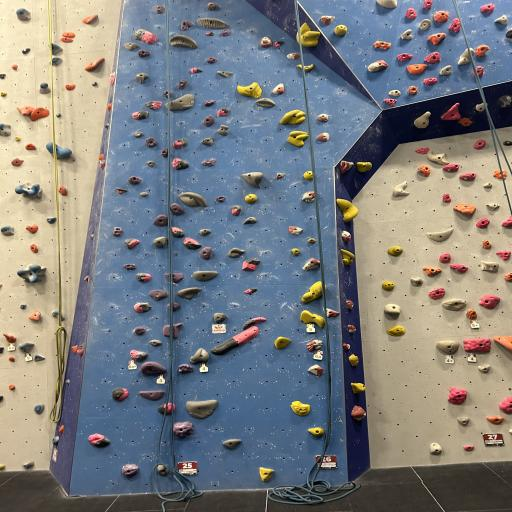holds: (211, 326, 259, 355), (186, 400, 217, 419), (336, 198, 358, 221), (301, 282, 323, 304), (237, 80, 262, 99), (170, 93, 195, 112), (179, 192, 208, 208), (435, 339, 461, 355), (282, 109, 307, 125), (301, 310, 326, 326), (464, 339, 493, 352), (170, 35, 198, 48), (426, 227, 454, 240), (442, 102, 461, 121), (301, 29, 320, 48), (19, 266, 41, 281), (16, 182, 41, 195), (291, 400, 310, 416), (413, 112, 432, 128), (288, 131, 307, 147), (173, 422, 192, 438), (448, 387, 467, 403), (90, 432, 109, 448), (480, 294, 499, 310), (32, 106, 51, 122), (138, 29, 157, 45), (141, 362, 166, 374), (442, 298, 467, 310), (198, 19, 227, 29), (454, 202, 477, 214), (427, 154, 448, 166), (192, 272, 217, 282), (138, 390, 163, 400), (368, 61, 387, 74), (189, 349, 208, 362), (243, 173, 262, 186), (182, 237, 201, 250), (480, 259, 499, 272), (256, 96, 275, 109), (493, 336, 512, 349), (406, 64, 429, 74), (86, 58, 105, 70), (179, 288, 201, 298), (275, 336, 291, 349), (112, 387, 128, 400), (429, 32, 445, 45), (125, 237, 141, 250), (429, 288, 445, 301), (150, 288, 166, 301), (134, 301, 150, 314), (259, 467, 275, 480), (243, 259, 259, 272), (304, 259, 320, 272), (342, 250, 355, 266), (499, 397, 512, 413), (307, 339, 323, 352), (243, 317, 265, 326), (122, 464, 137, 477), (394, 182, 409, 195), (173, 157, 188, 170), (426, 51, 441, 64), (55, 144, 70, 157), (432, 10, 448, 22), (458, 48, 470, 64), (387, 326, 406, 336), (378, 0, 397, 10), (227, 246, 246, 256), (442, 163, 461, 173), (16, 106, 35, 115), (198, 246, 211, 259), (419, 163, 432, 176), (259, 35, 272, 48), (352, 406, 365, 419), (339, 160, 352, 173), (423, 266, 441, 275), (387, 246, 403, 256), (224, 438, 240, 448), (480, 3, 496, 13), (147, 99, 163, 109), (451, 262, 467, 272), (384, 304, 400, 314), (0, 227, 16, 237), (243, 259, 259, 269), (19, 342, 35, 352), (400, 29, 413, 41), (154, 214, 166, 227), (157, 464, 169, 477), (134, 29, 147, 41), (374, 42, 390, 51), (474, 138, 486, 150), (170, 202, 182, 214), (307, 365, 323, 374), (131, 349, 147, 358), (83, 13, 99, 22), (429, 442, 441, 454), (422, 77, 438, 86), (307, 426, 323, 435), (179, 365, 195, 374), (173, 138, 189, 147), (173, 323, 182, 339), (496, 250, 512, 259), (16, 10, 32, 19), (202, 157, 217, 166), (358, 163, 371, 173), (272, 83, 285, 93), (406, 6, 416, 19), (128, 176, 141, 186), (246, 192, 259, 202), (352, 384, 365, 394), (134, 326, 147, 336), (467, 307, 477, 320), (198, 227, 211, 237), (451, 19, 461, 32), (342, 230, 352, 243), (326, 307, 339, 317), (288, 51, 301, 61), (502, 214, 512, 227), (499, 96, 512, 106), (160, 403, 173, 413), (138, 272, 150, 282), (29, 310, 41, 320), (317, 131, 329, 141), (439, 64, 451, 74), (26, 224, 38, 234), (173, 227, 185, 237), (458, 416, 470, 426), (301, 192, 313, 202), (61, 32, 73, 42), (51, 42, 61, 54), (438, 253, 451, 262), (214, 314, 227, 323), (134, 74, 147, 83), (349, 355, 358, 368), (320, 16, 333, 25), (22, 461, 35, 470), (3, 333, 16, 342), (77, 342, 86, 355), (486, 416, 505, 422), (397, 54, 413, 61), (288, 227, 304, 234), (477, 218, 489, 227), (381, 282, 393, 291), (477, 45, 489, 54), (154, 237, 166, 246), (138, 49, 150, 58), (125, 42, 137, 51), (0, 125, 9, 137), (419, 19, 429, 29), (422, 0, 432, 10), (35, 403, 45, 413), (182, 19, 192, 29), (218, 70, 232, 77), (461, 173, 477, 179), (131, 112, 147, 118), (416, 147, 429, 154), (384, 99, 397, 106), (112, 227, 121, 237), (205, 115, 214, 125), (410, 86, 419, 96), (230, 205, 240, 214), (442, 192, 451, 202), (147, 138, 157, 147), (477, 102, 486, 112), (173, 272, 182, 282), (496, 16, 505, 26), (317, 115, 329, 122), (410, 278, 422, 285), (458, 118, 470, 125), (125, 262, 137, 269), (336, 26, 345, 35), (13, 157, 22, 166), (218, 125, 227, 134), (304, 170, 313, 179), (493, 170, 502, 179), (304, 64, 313, 73), (243, 218, 256, 224), (486, 202, 499, 208), (115, 189, 128, 195), (243, 288, 256, 294), (48, 141, 54, 154), (163, 323, 169, 336), (202, 138, 214, 144), (477, 365, 489, 371), (218, 109, 230, 115), (150, 339, 160, 346), (67, 83, 77, 90), (166, 403, 173, 413), (54, 435, 61, 445), (134, 131, 144, 138), (165, 90, 173, 98), (208, 3, 217, 10), (205, 99, 214, 106), (218, 195, 227, 202), (192, 67, 201, 74), (32, 243, 38, 253), (483, 240, 489, 250), (291, 250, 301, 256), (275, 173, 285, 179), (179, 80, 185, 90), (307, 237, 317, 243), (506, 272, 512, 282), (51, 58, 61, 64), (390, 90, 400, 96), (349, 323, 355, 333), (477, 67, 483, 77), (42, 83, 48, 93), (22, 48, 32, 54), (35, 355, 45, 361), (26, 144, 35, 150), (61, 186, 67, 195), (48, 218, 57, 224), (208, 58, 217, 64), (173, 301, 179, 310), (506, 29, 512, 38), (221, 29, 230, 35), (275, 42, 284, 48), (109, 74, 115, 83), (464, 445, 473, 451), (342, 342, 349, 349), (485, 182, 492, 189), (298, 28, 301, 44), (157, 6, 163, 13), (74, 346, 80, 353), (346, 301, 352, 307), (147, 160, 153, 166), (10, 384, 16, 390), (83, 275, 89, 281), (13, 64, 19, 70), (64, 378, 70, 384), (20, 304, 26, 310), (163, 147, 166, 157), (502, 141, 512, 144), (141, 192, 150, 195), (205, 32, 214, 35), (0, 74, 5, 79), (89, 234, 94, 239), (61, 426, 64, 434), (105, 123, 109, 129), (54, 310, 57, 317), (56, 113, 61, 117), (0, 93, 6, 96), (16, 138, 22, 141), (0, 464, 3, 470), (108, 104, 111, 110), (0, 397, 3, 401), (93, 83, 96, 86), (0, 349, 3, 352)
